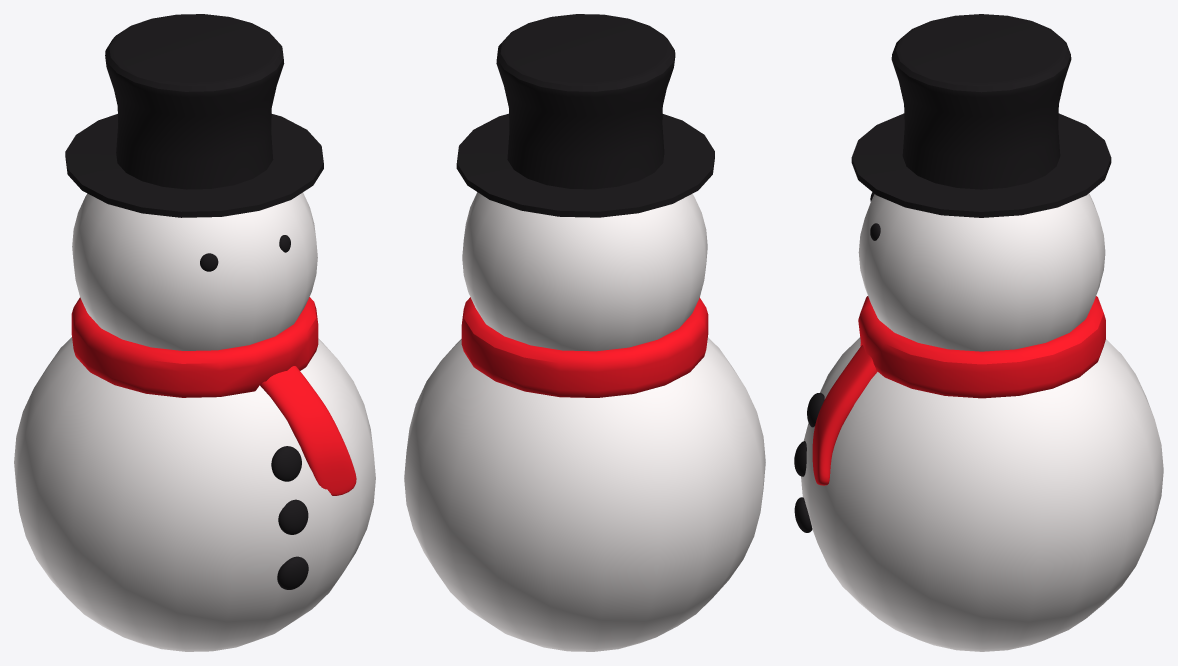
The model's file is xueren.fbx.
The picture shows the model from 3 angles, left to right: view 1: azimuth 30°, elevation 25°; view 2: azimuth 150°, elevation 25°; view 3: azimuth 270°, elevation 25°; orthographic projection.
Visible parts, largest first — view 1: pCylinder2; view 2: pCylinder2; view 3: pCylinder2.
Boxes of the visible parts, x1=… form: pCylinder2: x1=14, y1=14, x2=375, y2=651; pCylinder2: x1=404, y1=14, x2=765, y2=651; pCylinder2: x1=794, y1=14, x2=1163, y2=651.
Bounding box in the file's own units: 6.97 × 12.41 × 7.09.
